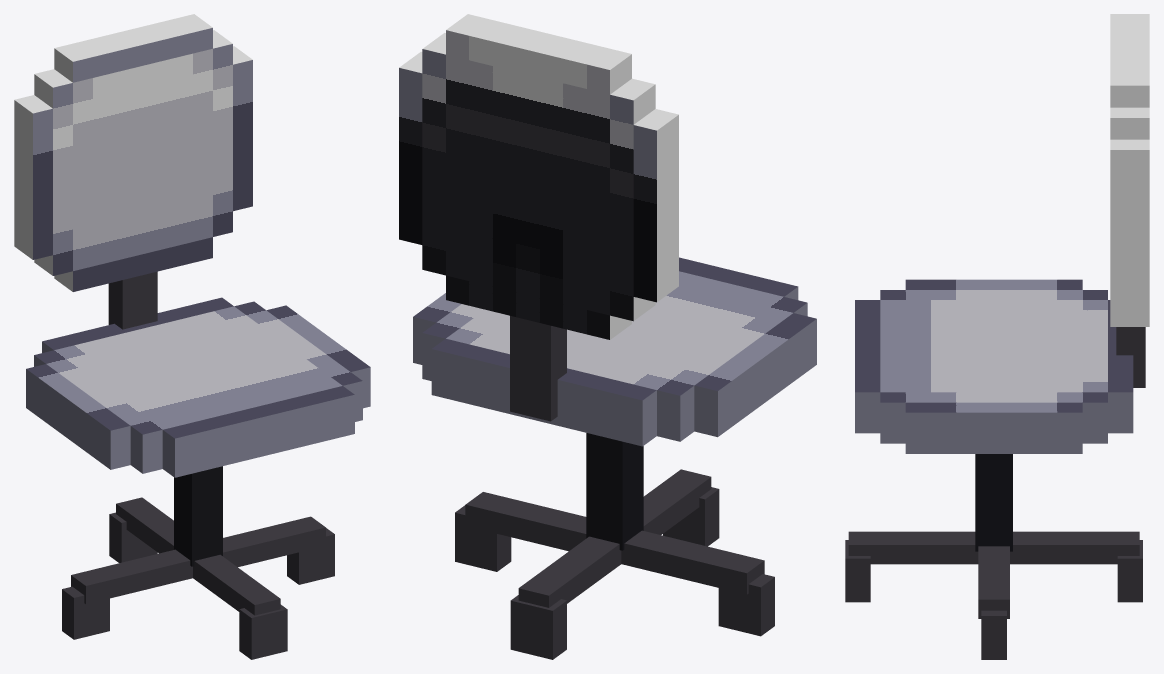
File: office_chair_white.glb
3 renders of one model, left to right at view 1: azimuth 30°, elevation 25°; view 2: azimuth 150°, elevation 25°; view 3: azimuth 270°, elevation 25°, orthographic. The views are drawn at different scales.
Visible parts, largest first — view 1: office_chair_white_Swivel_Seat_Assembly, office_chair_white_Pedestal_And_Base, Caster_3, Caster_1, Caster_2, Caster_4; view 2: office_chair_white_Swivel_Seat_Assembly, office_chair_white_Pedestal_And_Base, Caster_4, Caster_1, Caster_2, Caster_3; view 3: office_chair_white_Swivel_Seat_Assembly, office_chair_white_Pedestal_And_Base, Caster_2, Caster_3, Caster_4.
Part boxes in pixels (x1,y1,x2,y2): office_chair_white_Swivel_Seat_Assembly: (14, 14, 370, 477); office_chair_white_Pedestal_And_Base: (71, 466, 325, 615); Caster_3: (239, 604, 287, 659); Caster_1: (62, 586, 109, 639); Caster_2: (287, 528, 334, 584); Caster_4: (109, 512, 157, 562); office_chair_white_Swivel_Seat_Assembly: (399, 14, 816, 446); office_chair_white_Pedestal_And_Base: (465, 433, 764, 607); Caster_4: (510, 595, 566, 659); Caster_1: (718, 574, 774, 636); Caster_2: (455, 505, 511, 571); Caster_3: (663, 487, 719, 546); office_chair_white_Swivel_Seat_Assembly: (855, 14, 1149, 453); office_chair_white_Pedestal_And_Base: (848, 454, 1139, 618); Caster_2: (981, 610, 1006, 659); Caster_3: (845, 540, 870, 602); Caster_4: (1117, 540, 1142, 602).
Size of the model in its own units: 0.522 by 0.99 by 0.503.
2 materials, 2 textured.
